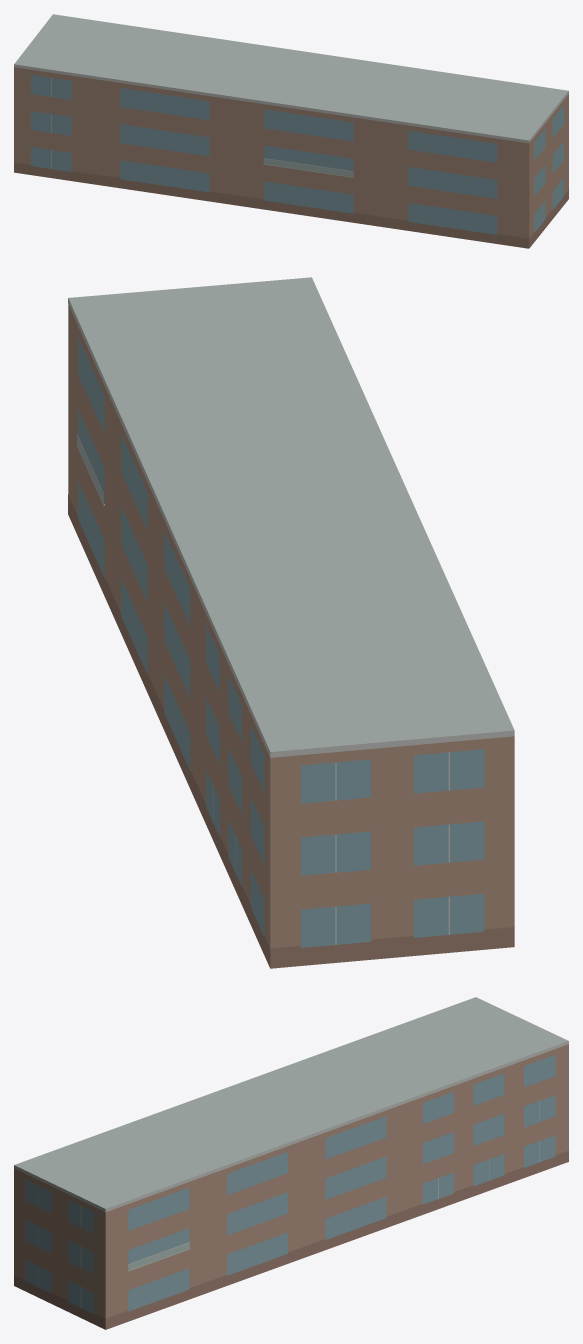
File: survey-upis-33047127.glb
3 views of the same model, one above another, from view 1: azimuth 30°, elevation 25°; view 2: azimuth 150°, elevation 25°; view 3: azimuth 270°, elevation 25° (orthographic). The views are drawn at different scales.
Visible parts, largest first — view 1: survey-upis-33047127.tmp; view 2: survey-upis-33047127.tmp; view 3: survey-upis-33047127.tmp.
Part boxes in pixels (x1,y1,x2,y2): survey-upis-33047127.tmp: (14,14,568,248); survey-upis-33047127.tmp: (68,277,514,968); survey-upis-33047127.tmp: (14,997,568,1329).
Bounding box in the file's own units: 34.42 × 9.15 × 38.07.
